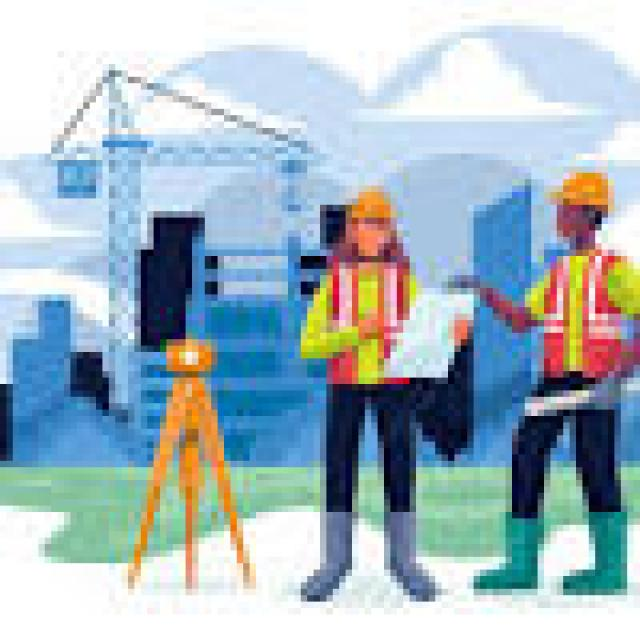Reflective-Jacket: (301, 237, 435, 390), (525, 250, 640, 403)
Safety-Helmet: (538, 160, 627, 224), (332, 173, 410, 243)
